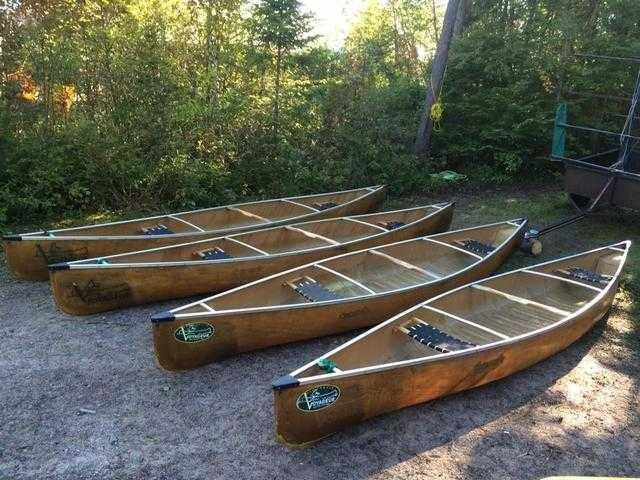kayak: (272, 240, 632, 446), (151, 217, 531, 373), (11, 182, 386, 290), (43, 220, 348, 317), (551, 69, 640, 218)
